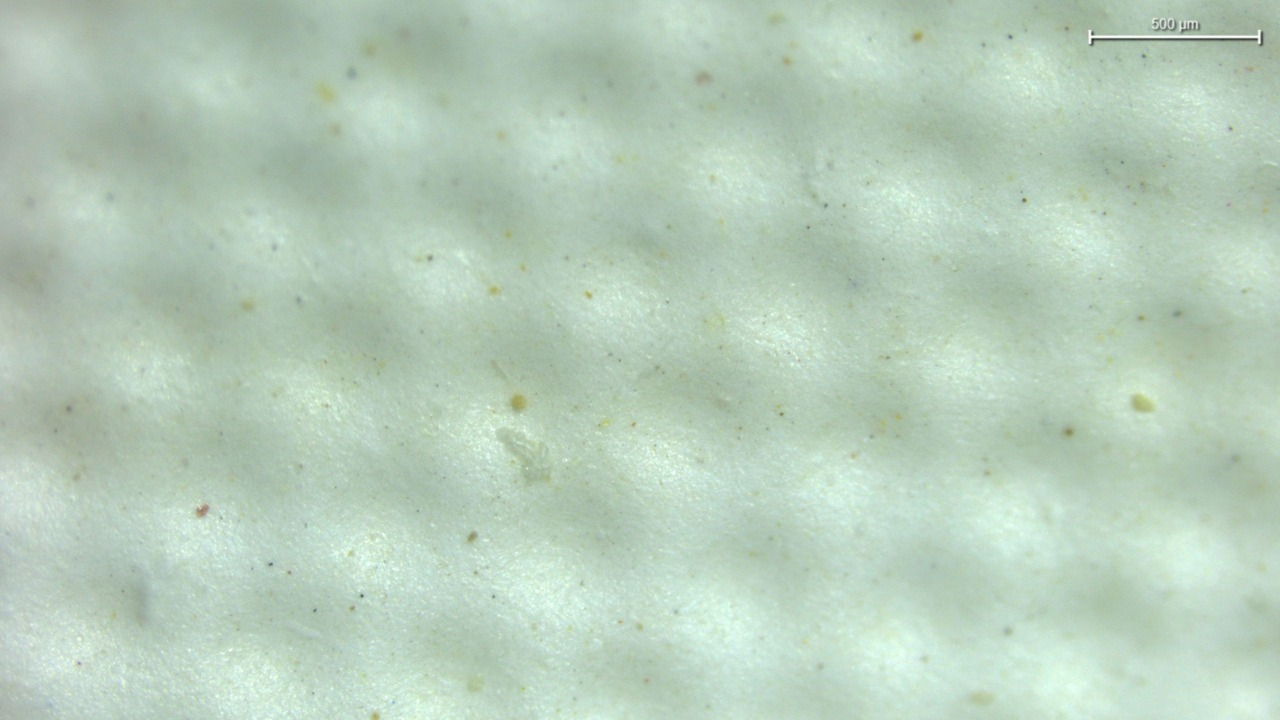microplastic_fragment: (497, 428, 550, 483)
